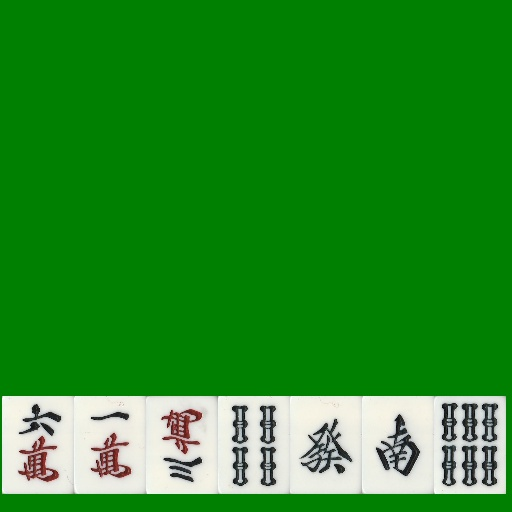1m: (74, 396, 146, 494)
3m: (146, 396, 218, 494)
4s: (218, 396, 290, 494)
6m: (2, 396, 74, 494)
6s: (434, 396, 506, 494)
hatsu: (290, 396, 362, 494)
south: (362, 396, 434, 494)
